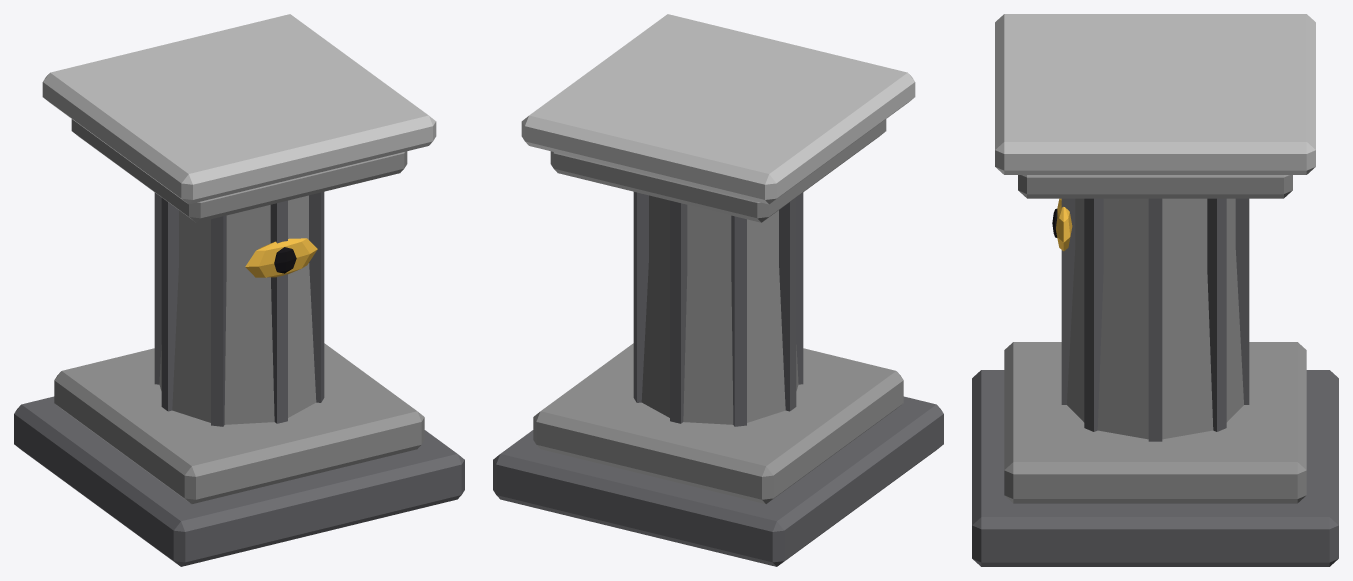
The model's file is pedestal.fbx.
3 views of the same model, side by side, from view 1: azimuth 30°, elevation 25°; view 2: azimuth 150°, elevation 25°; view 3: azimuth 270°, elevation 25° (orthographic). The views are drawn at different scales.
Visible parts, largest first — view 1: Pedestal; view 2: Pedestal; view 3: Pedestal.
Part boxes in pixels (x1,y1,x2,y2): Pedestal: (14, 14, 464, 566); Pedestal: (493, 14, 943, 566); Pedestal: (972, 14, 1338, 566).
Bounding box in the file's own units: 0.8 × 1 × 0.8.
1 material, 1 textured.
